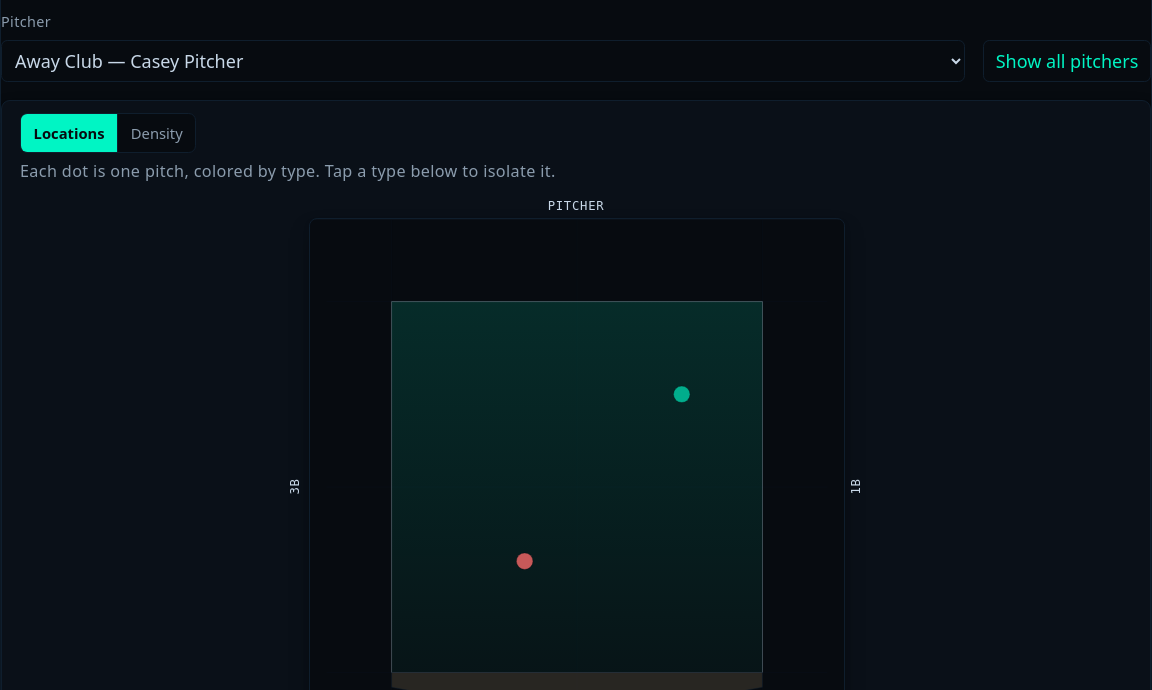
Test: GamePitcherStrikeZones › shows the full grid after toggling to all pitchers
Click the button "Show all pitchers".
click(1067, 61)  # box [983,40,1151,82]
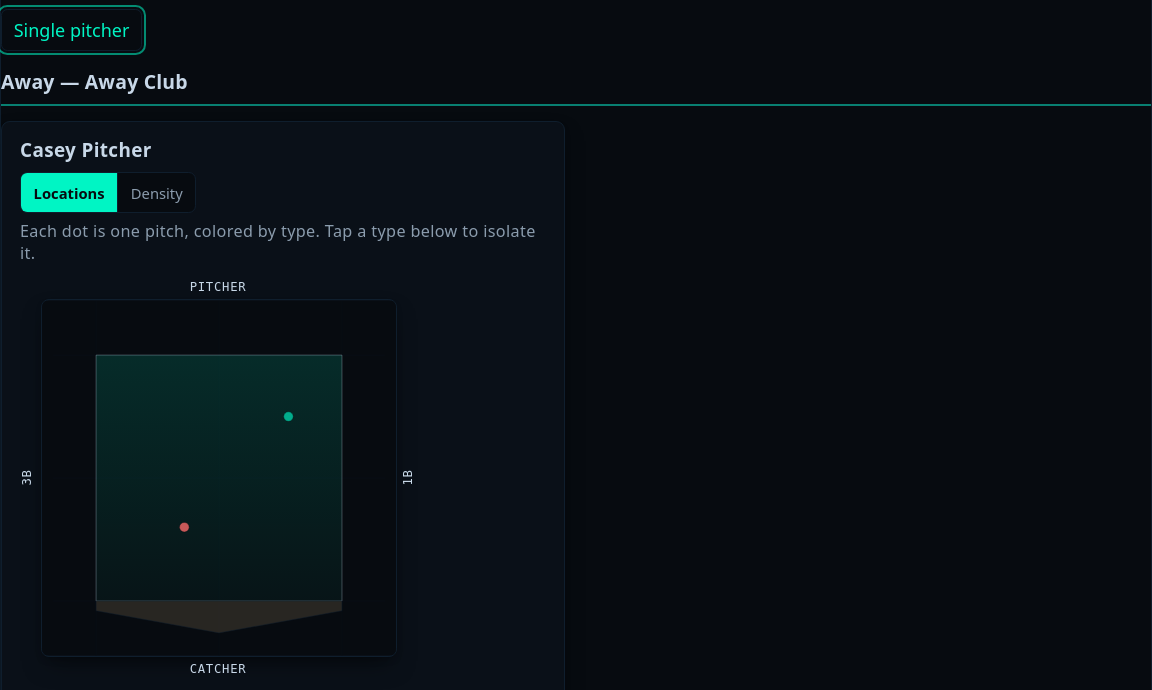
Expected: the heading "Away — Away Club" is shown, [1,70,1151,106]
Expected: the heading "Casey Pitcher" is shown, [20,137,152,163]
